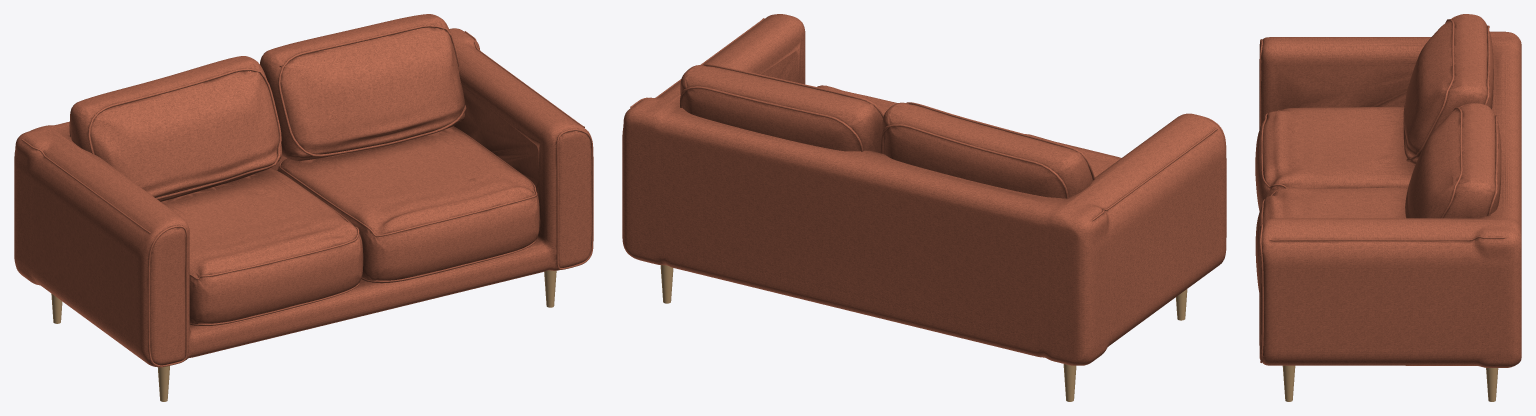
Rendered from lino-oxido.gltf.
3 renders of one model, left to right at view 1: azimuth 30°, elevation 25°; view 2: azimuth 150°, elevation 25°; view 3: azimuth 270°, elevation 25°, orthographic. The views are drawn at different scales.
Parts seen in each view (by area): view 1: tela_ar, madera_ar; view 2: tela_ar, madera_ar; view 3: tela_ar, madera_ar.
Part boxes in pixels (box(x1,y1,x2,y2)): tela_ar: box(14, 14, 593, 367); madera_ar: box(51, 270, 556, 401); tela_ar: box(622, 14, 1226, 365); madera_ar: box(660, 265, 1187, 401); tela_ar: box(1255, 14, 1521, 367); madera_ar: box(1282, 365, 1498, 401).
Bounding box in the file's own units: 1.7 × 0.8275 × 0.9121.
Materials: 2 (2 with a texture image).
